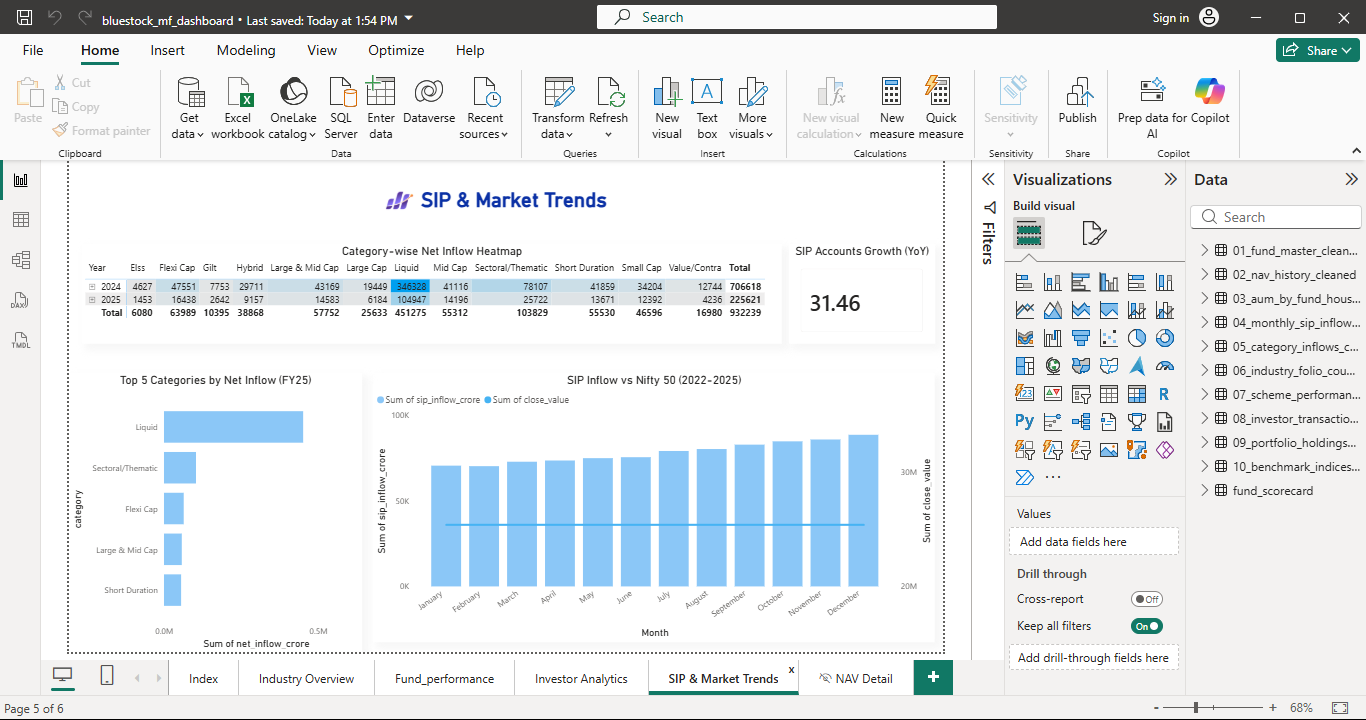

This screenshot's page, from the dashboard's own definition file:
{"tool":"powerbi","page":{"name":"SIP & Market Trends","canvas":[1280,720],"ordinal":4},"visuals":[{"type":"lineStackedColumnComboChart","title":"SIP Inflow vs Nifty 50 (2022-2025)","fields":{"Category":["04_monthly_sip_inflows_cleaned.month.Variation.Date Hierarchy.Month"],"Y":["Sum(04_monthly_sip_inflows_cleaned.sip_inflow_crore)"],"Y2":["Sum(10_benchmark_indices_cleaned.close_value)"]},"box":[444.9,311.7,822.4,393.7],"z":0},{"type":"pivotTable","title":"Category-wise Net Inflow Heatmap","fields":{"Rows":["05_category_inflows_cleaned.month.Variation.Date Hierarchy.Year","05_category_inflows_cleaned.month.Variation.Date Hierarchy.Quarter","05_category_inflows_cleaned.month.Variation.Date Hierarchy.Month","05_category_inflows_cleaned.month.Variation.Date Hierarchy.Day"],"Columns":["05_category_inflows_cleaned.category"],"Values":["Sum(05_category_inflows_cleaned.net_inflow_crore)"]},"box":[19,122.9,1024.4,146.3],"z":1000},{"type":"barChart","title":"Top 5 Categories by Net Inflow (FY25)","fields":{"Category":["05_category_inflows_cleaned.category"],"Y":["Sum(05_category_inflows_cleaned.net_inflow_crore)"]},"box":[0,311.7,428.8,408.3],"z":2000},{"type":"cardVisual","title":"SIP Accounts Growth (YoY)","fields":{"Data":["04_monthly_sip_inflows_cleaned.SIP YoY Growth"]},"box":[1053.7,122.9,213.7,146.3],"z":3000},{"type":"textbox","title":"SIP & Market Trends","box":[387.8,41,526.8,42.4],"z":4000},{"type":"image","box":[387.8,35.1,190.2,48.3],"z":5000}]}

Visuals, with their boxes on the page's 1280x720 design canvas (x1, y1, x2, y2). These are canvas units, not pixel positions in the 1366x720 screenshot, which may show the page scaled, cropped or inside an application window:
"SIP Inflow vs Nifty 50 (2022-2025)" lineStackedColumnComboChart: crop(445, 312, 1267, 705)
"Category-wise Net Inflow Heatmap" pivotTable: crop(19, 123, 1043, 269)
"Top 5 Categories by Net Inflow (FY25)" barChart: crop(0, 312, 429, 720)
"SIP Accounts Growth (YoY)" cardVisual: crop(1054, 123, 1267, 269)
"SIP & Market Trends" textbox: crop(388, 41, 915, 83)
image: crop(388, 35, 578, 83)
